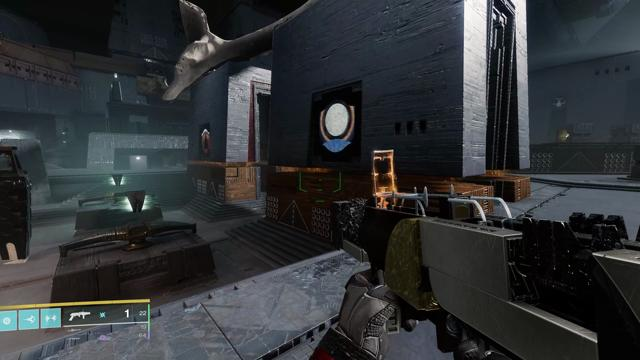pyramid: (201, 129, 210, 153)
traveler: (319, 99, 354, 152)
